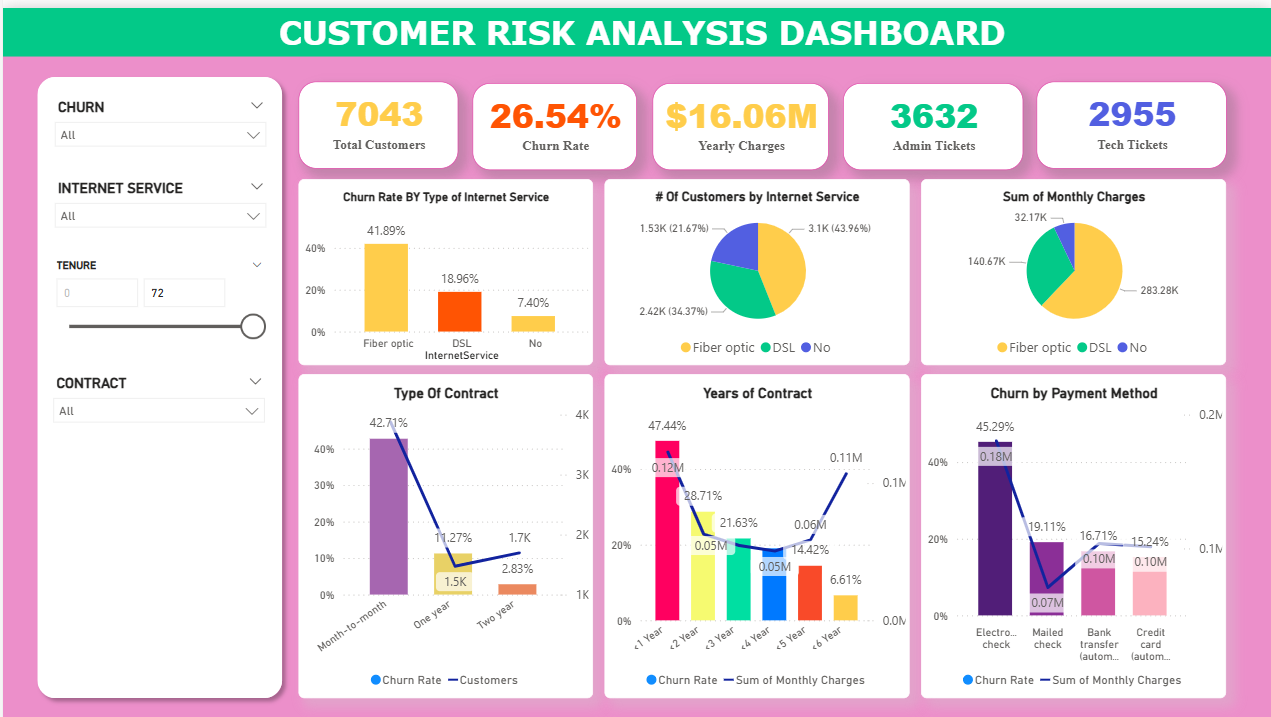

The dashboard page shown, as its layout file describes it:
{"tool":"powerbi","page":{"name":"Customer Risk Analysis","canvas":[1280,720],"ordinal":1},"visuals":[{"type":"shape","box":[0,0,1280,49],"z":0},{"type":"textbox","box":[10.6,0,1268.9,48.5],"z":1000},{"type":"shape","box":[25,61,265,645],"z":2000},{"type":"slicer","fields":{"Values":["Churn.Churn"]},"box":[42,82,233,81],"z":3000},{"type":"slicer","fields":{"Values":["Churn.InternetService"]},"box":[42,163,233,81],"z":4000},{"type":"slicer","fields":{"Values":["Churn.tenure"]},"box":[41,244,233,97],"z":5000},{"type":"slicer","fields":{"Values":["Churn.Contract"]},"box":[41,360,233,81],"z":6000},{"type":"card","fields":{"Values":["CountNonNull(01 Churn-Dataset.customerID)"]},"box":[298,74,161,88],"z":7000},{"type":"card","fields":{"Values":["Churn.% Churn Rate"]},"box":[474,75,166,88],"z":8000},{"type":"card","fields":{"Values":["Sum(Churn.TotalCharges)"]},"box":[656,75,178,88],"z":9000},{"type":"card","fields":{"Values":["Sum(Churn.numAdminTickets)"]},"box":[848,75,182,88],"z":10000},{"type":"card","fields":{"Values":["Sum(Churn.numTechTickets)"]},"box":[1043,74,192,88],"z":11000},{"type":"columnChart","title":"Churn Rate BY Type of Internet Service","fields":{"Y":["Churn.% Churn Rate"],"Category":["Churn.InternetService"]},"box":[298,172,297,188],"z":12000},{"type":"pieChart","title":"# Of Customers by Internet Service","fields":{"Y":["CountNonNull(Churn.customerID)"],"Category":["Churn.InternetService"]},"box":[607,172,308,188],"z":13000},{"type":"pieChart","title":"Sum of Monthly Charges","fields":{"Category":["Churn.InternetService"],"Y":["Sum(Churn.MonthlyCharges)"]},"box":[927,172,308,188],"z":14000},{"type":"lineStackedColumnComboChart","title":"Type Of Contract","fields":{"Y2":["CountNonNull(Churn.customerID)"],"Y":["Churn.% Churn Rate"],"Category":["Churn.Contract"]},"box":[298,370,297,327],"z":15000},{"type":"lineStackedColumnComboChart","title":"Years of Contract","fields":{"Y":["Churn.% Churn Rate"],"Y2":["Sum(Churn.MonthlyCharges)"],"Category":["Churn.Tenure(in years)"]},"box":[607,370,308,327],"z":16000},{"type":"lineStackedColumnComboChart","title":"Churn by Payment Method","fields":{"Y":["Churn.% Churn Rate"],"Y2":["Sum(Churn.MonthlyCharges)"],"Category":["Churn.PaymentMethod"]},"box":[927,370,308,327],"z":17000}]}

Visuals, with their boxes in screenshot pixels (x1, y1, x2, y2), scaled from the page's 1280x720 canvas onto the 1271x717 screenshot:
shape: (left=0, top=0, right=1270, bottom=49)
textbox: (left=11, top=0, right=1270, bottom=48)
shape: (left=25, top=61, right=288, bottom=703)
slicer - Churn.Churn: (left=42, top=82, right=273, bottom=162)
slicer - Churn.InternetService: (left=42, top=162, right=273, bottom=243)
slicer - Churn.tenure: (left=41, top=243, right=272, bottom=340)
slicer - Churn.Contract: (left=41, top=358, right=272, bottom=439)
card - CountNonNull(01 Churn-Dataset.customerID): (left=296, top=74, right=456, bottom=161)
card - Churn.% Churn Rate: (left=471, top=75, right=636, bottom=162)
card - Sum(Churn.TotalCharges): (left=651, top=75, right=828, bottom=162)
card - Sum(Churn.numAdminTickets): (left=842, top=75, right=1023, bottom=162)
card - Sum(Churn.numTechTickets): (left=1036, top=74, right=1226, bottom=161)
"Churn Rate BY Type of Internet Service" columnChart: (left=296, top=171, right=591, bottom=358)
"# Of Customers by Internet Service" pieChart: (left=603, top=171, right=909, bottom=358)
"Sum of Monthly Charges" pieChart: (left=920, top=171, right=1226, bottom=358)
"Type Of Contract" lineStackedColumnComboChart: (left=296, top=368, right=591, bottom=694)
"Years of Contract" lineStackedColumnComboChart: (left=603, top=368, right=909, bottom=694)
"Churn by Payment Method" lineStackedColumnComboChart: (left=920, top=368, right=1226, bottom=694)
